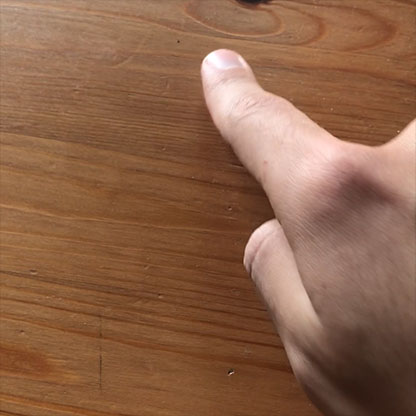fingertip: (196, 38, 254, 88)
